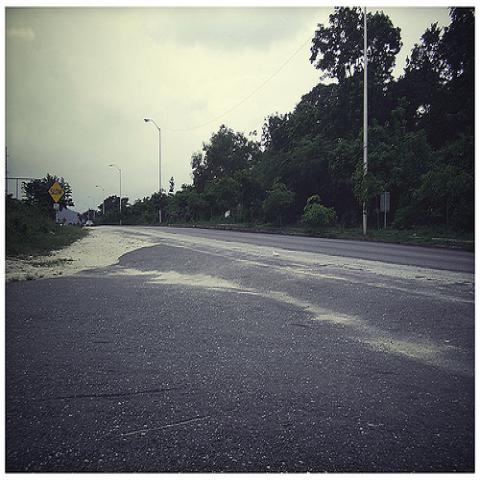car: (86, 220, 95, 226)
